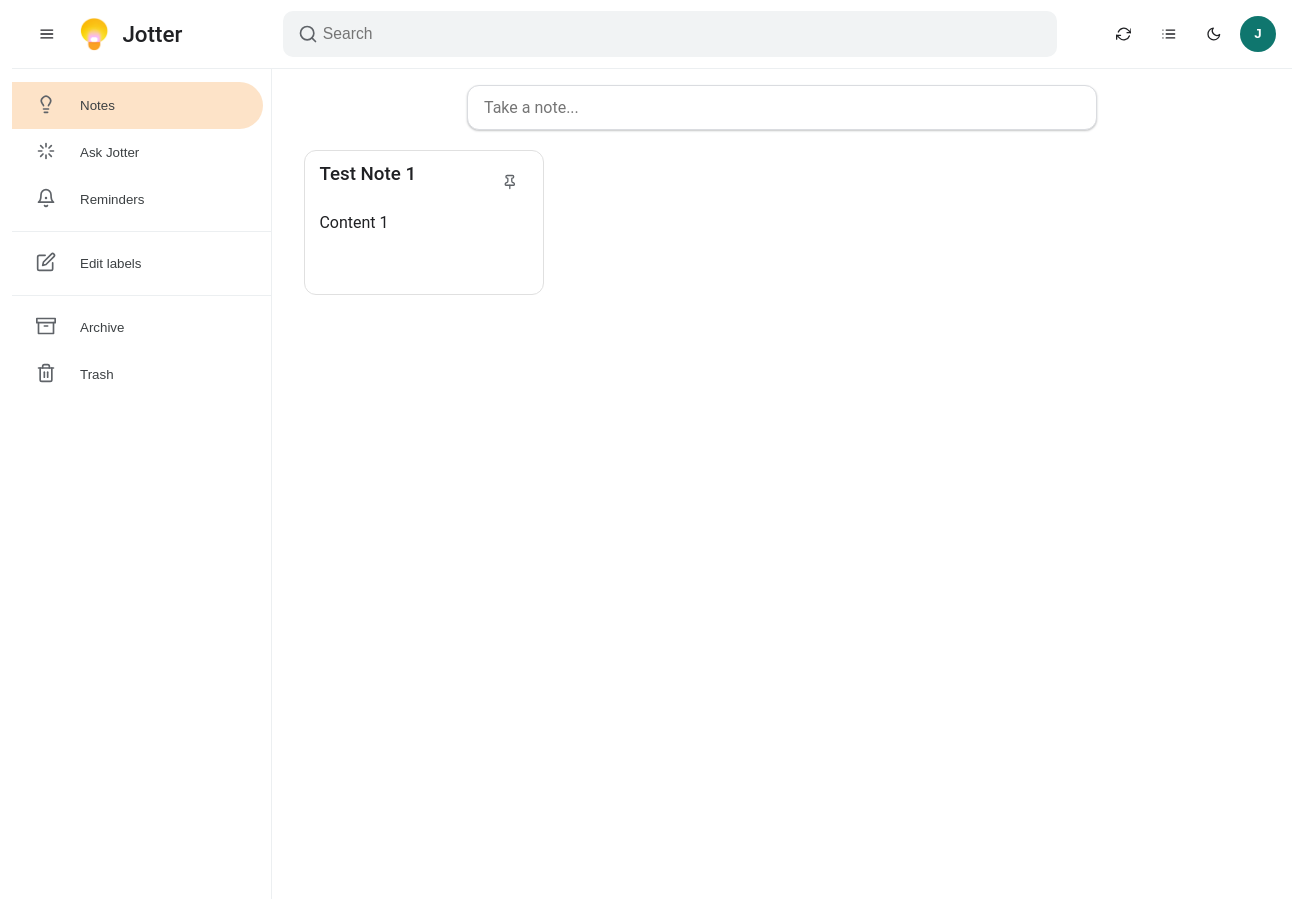
Test: DashboardPage — composer, editing, chat, and misc › closes the profile menu on outside click
The width and height of the screenshot is (1292, 900).
Expected: the heading "Test Note 1" is shown, left=319, top=163, right=416, bottom=185
Click the button named "Account menu" at [1258, 34], box left=1240, top=16, right=1276, bottom=52
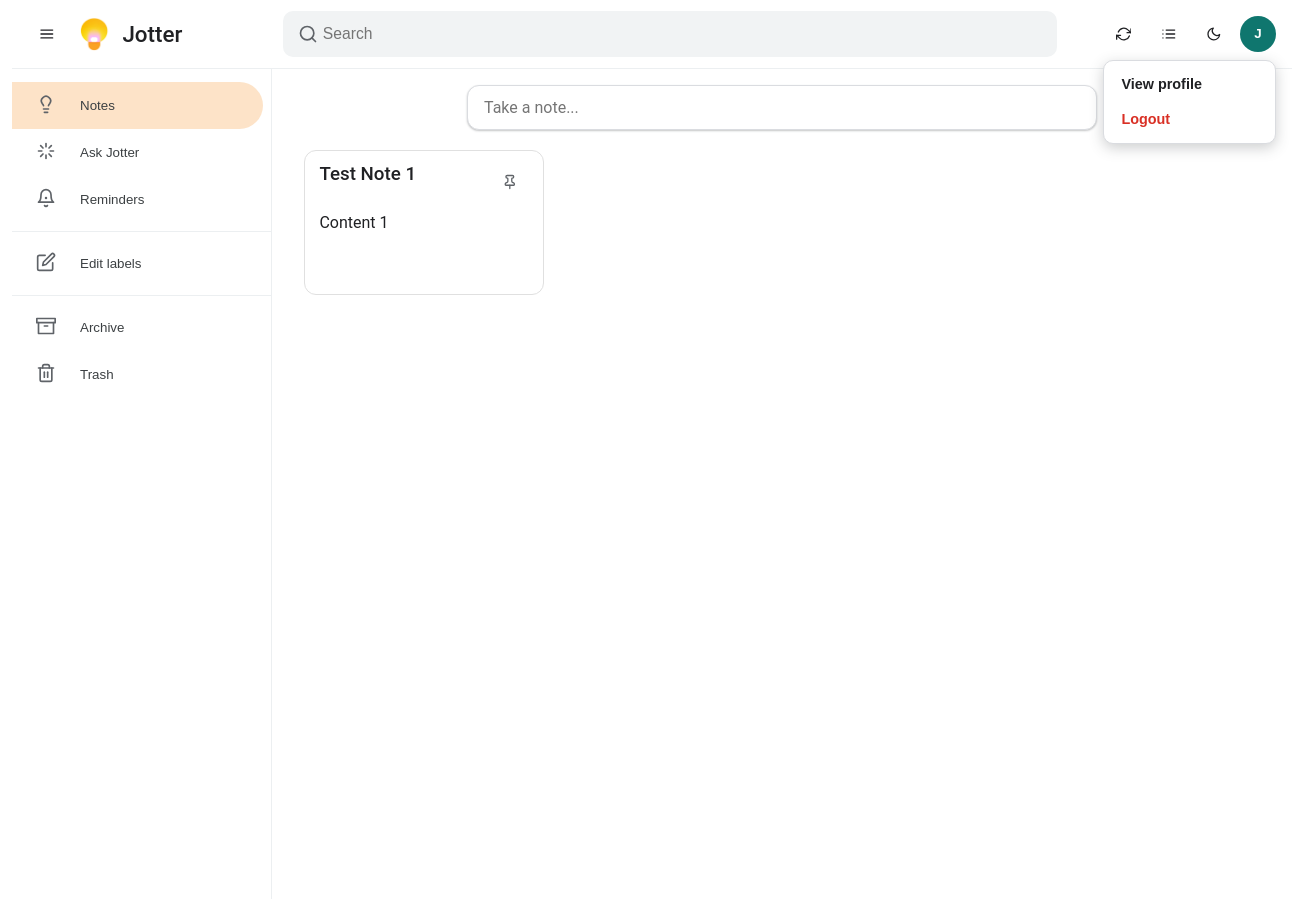
Now the button "View profile" is shown, box left=1109, top=67, right=1269, bottom=102
Press the mouse on the element that starts with "Jotter" at [652, 450], box left=12, top=0, right=1291, bottom=899
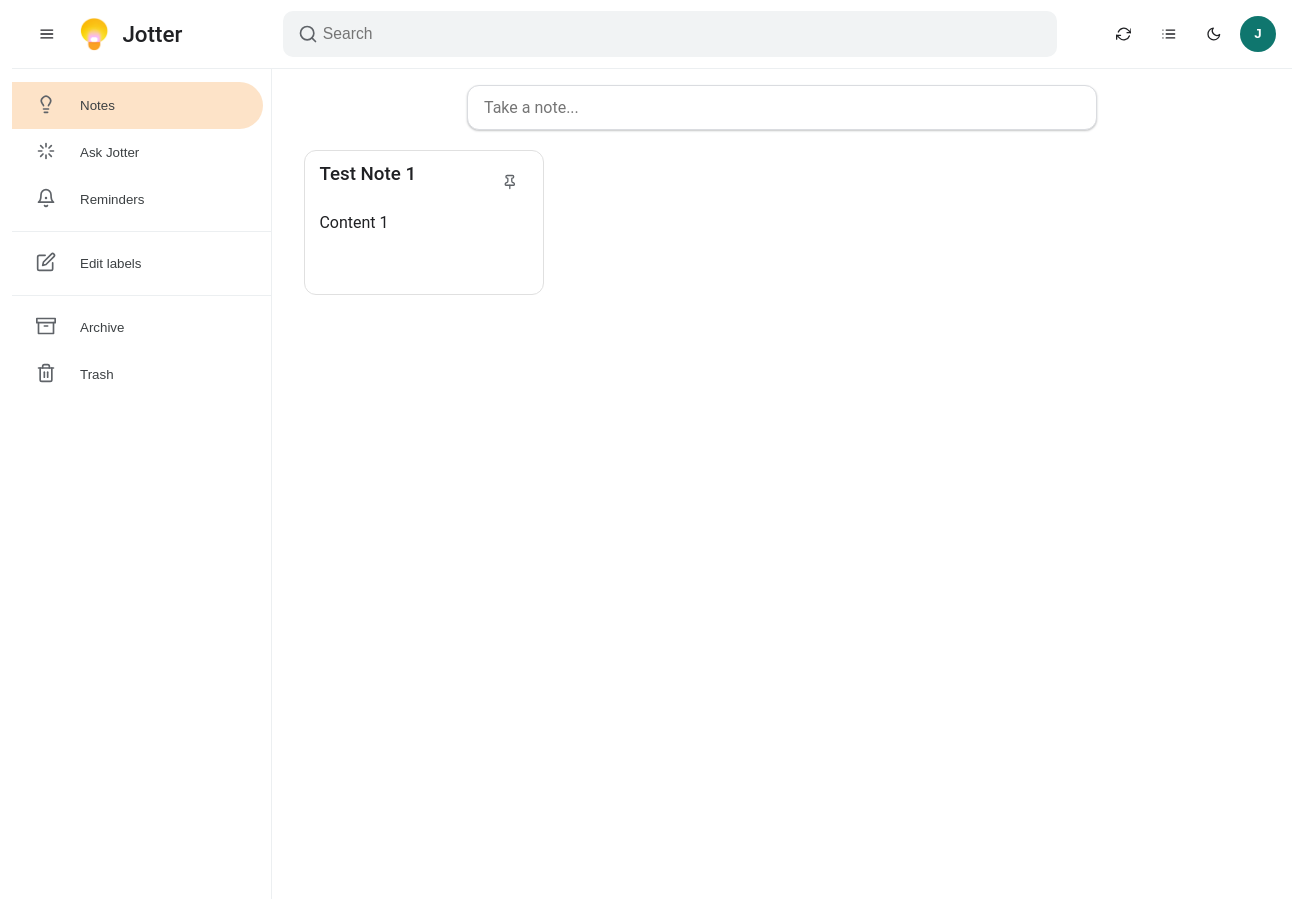
Now the button "View profile" is gone
